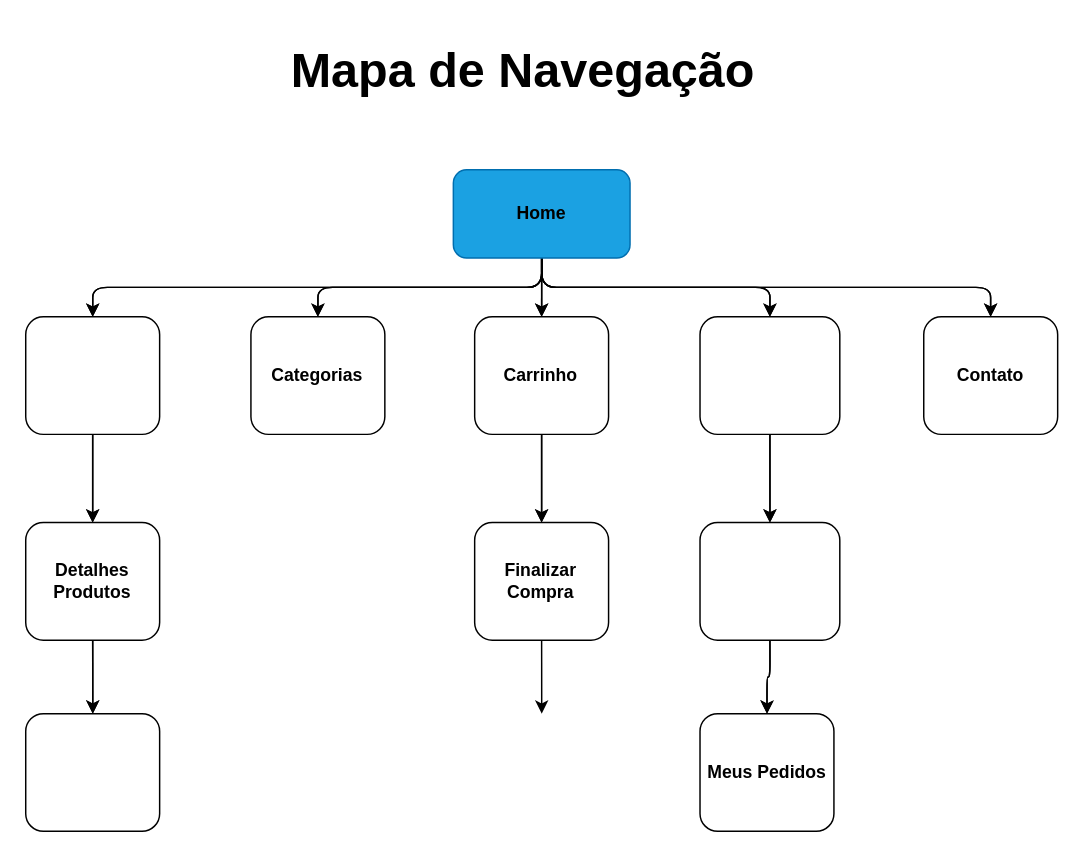
Some shapes in this 1083 by 857 pixel diagram are drawn without their labels. The shapes that lost their labels are listed below. From the top down, each one's box as (x1, y1, x2, y2) in pixels, then its label:
(24, 315, 160, 434): Produtos
(699, 315, 840, 434): Login/Cadastro
(699, 521, 840, 640): Área do Cliente
(24, 712, 160, 831): Adicionar ao Carrinho
